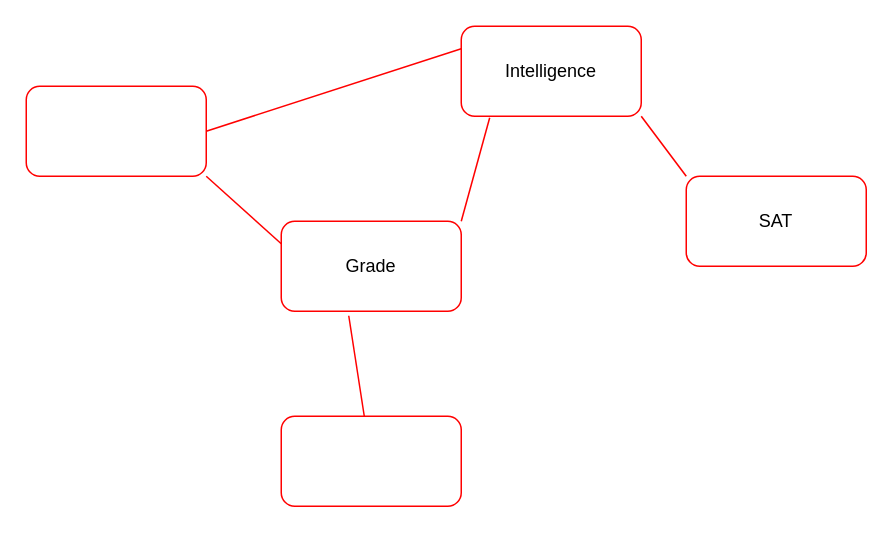
Some shapes in this 893 by 533 pixel diagram are drawn without their labels. The box of each missing label's shape, as (x1, y1, x2, y2) in pixels:
Difficulty: (25, 85, 206, 176)
Letter: (280, 415, 461, 506)
